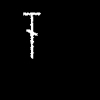double_crochet: (23, 13, 39, 57)
